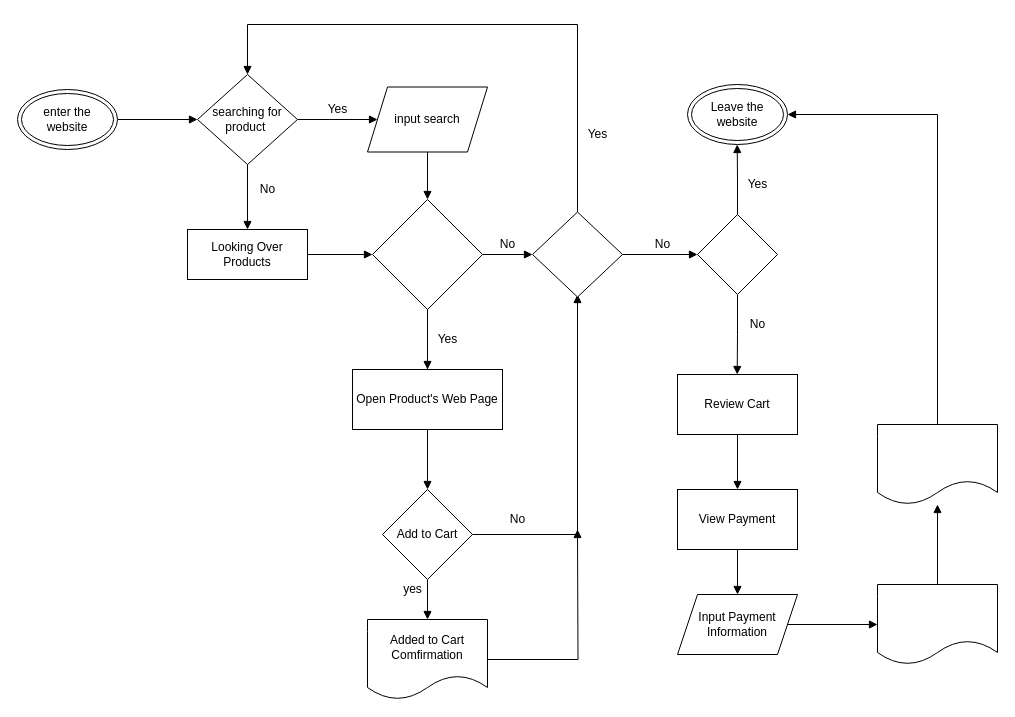
The diagram is 1015 pixels wide and 717 high, and some of its shapes have lost their labels. The shapes that lost their labels are listed below. From the top down, each one's box as (x1, y1, x2, y2) in pixels, then its label:
(372, 198, 482, 310): View Specific Product
(532, 211, 622, 297): Continue shopping
(696, 214, 778, 294): Checkout
(876, 424, 998, 504): Confirmation Email
(876, 584, 998, 664): Order Confirmation
